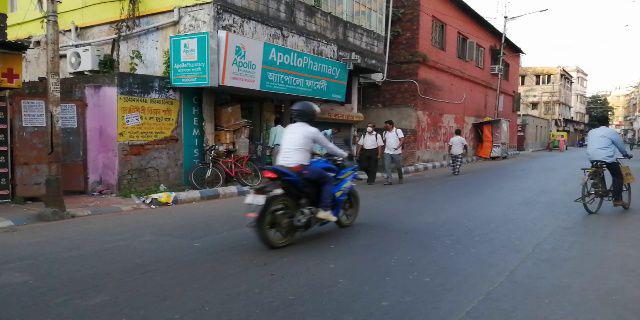Cycle: (571, 111, 636, 219), (190, 142, 264, 189)
Motorbike: (246, 100, 363, 251)
